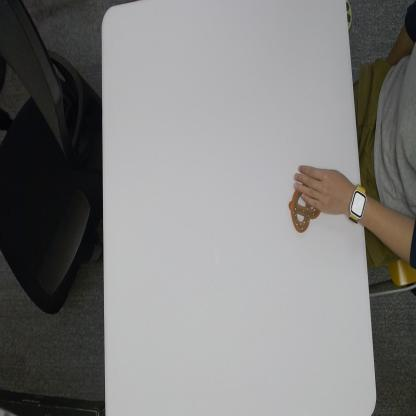Hand: (292, 159, 346, 217)
Pretzel: (288, 186, 322, 233)
